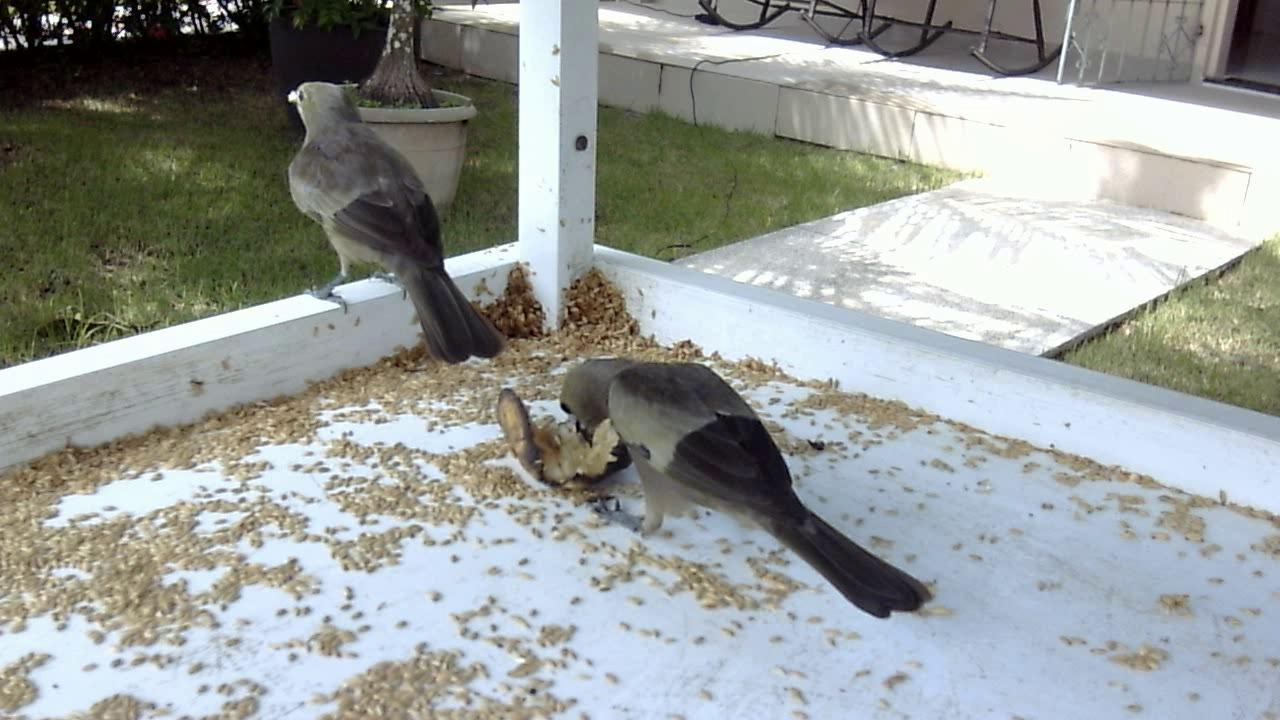sanhaco_do_coqueiro: (523, 343, 947, 641), (282, 75, 506, 368)
